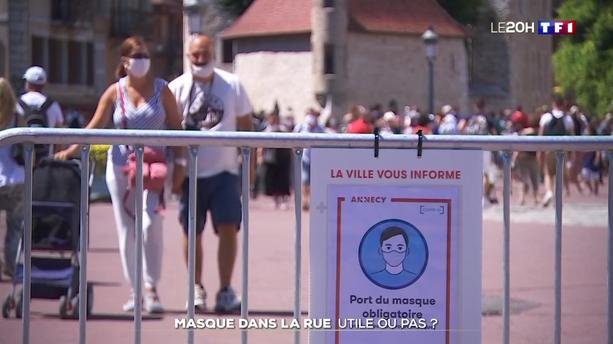with_incorrect_mask: (187, 48, 217, 79)
with_mask: (118, 44, 152, 81)
